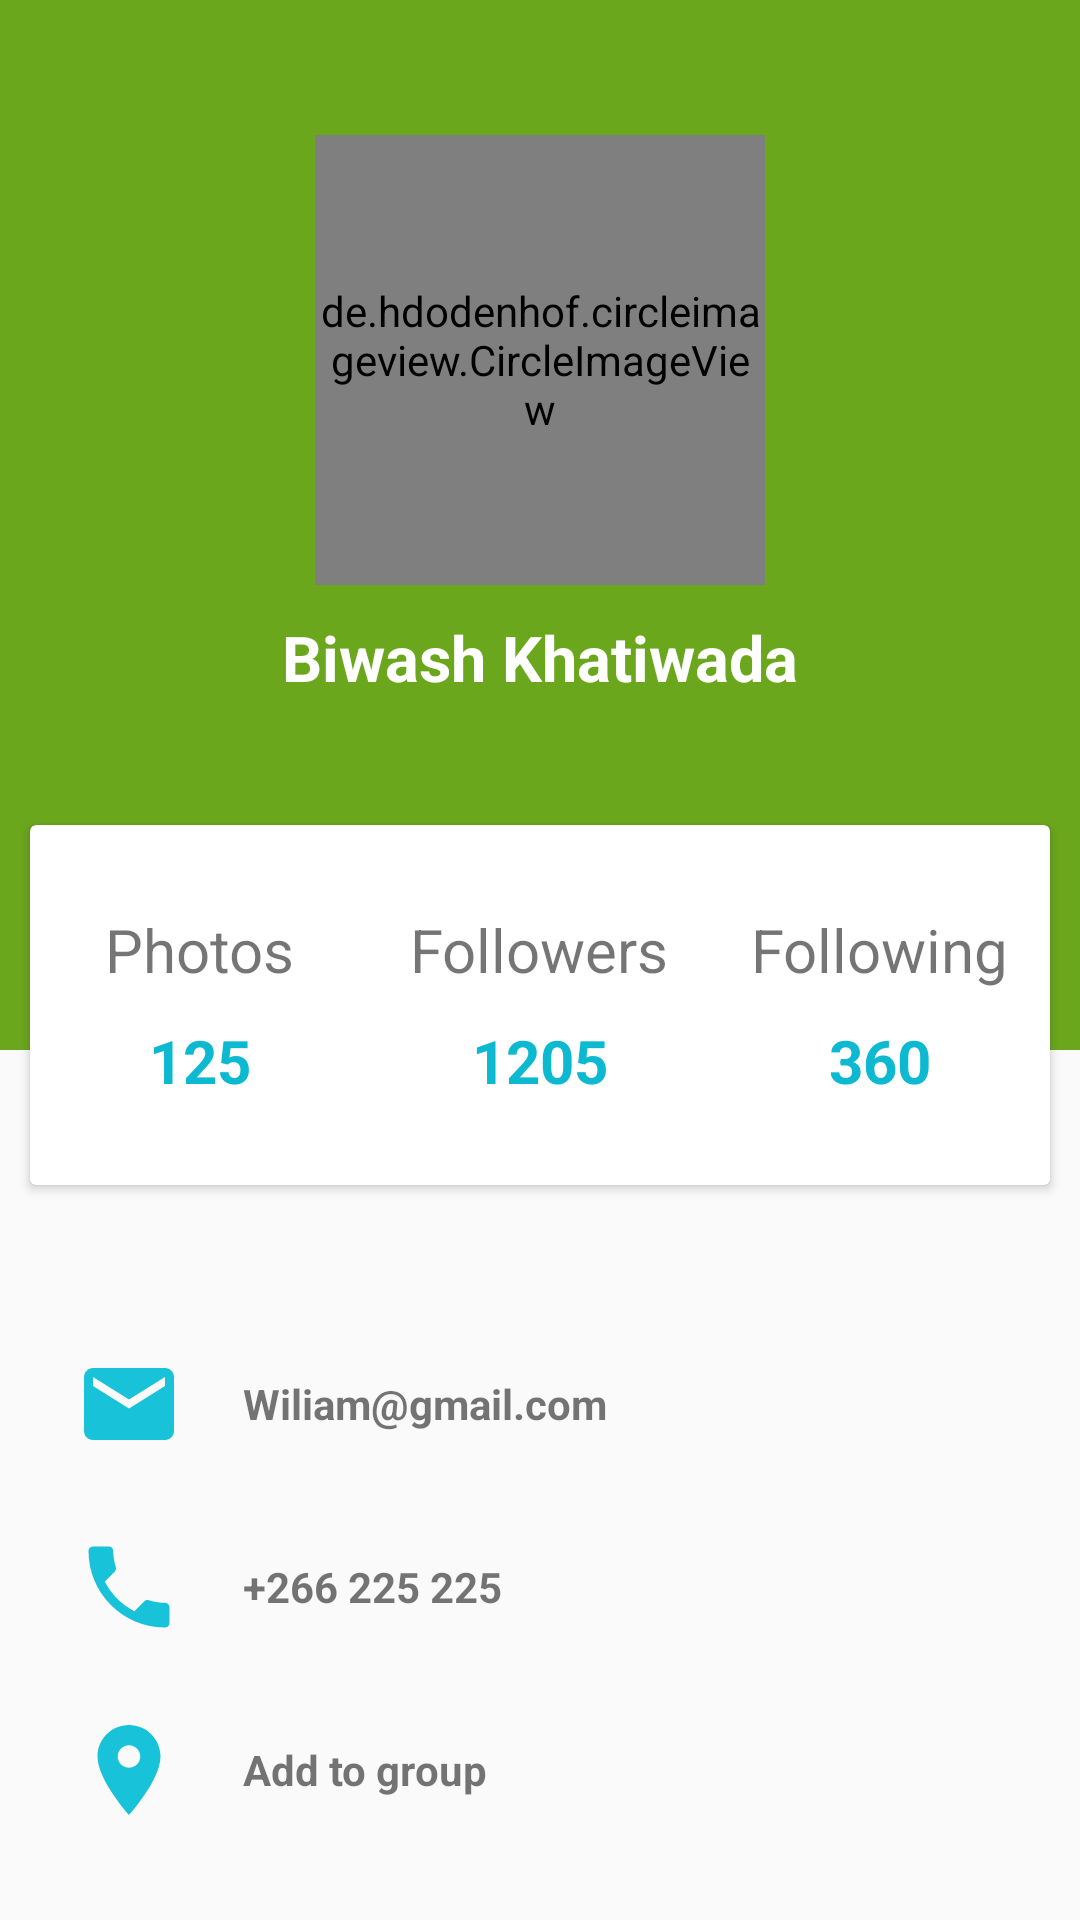

Icon bounding boxes for this 1080w x 1920h phone screenshot, format (x1, y1, x2, y2):
email: (84, 1368, 174, 1440)
local phone: (88, 1546, 170, 1628)
location on: (97, 1725, 161, 1815)
